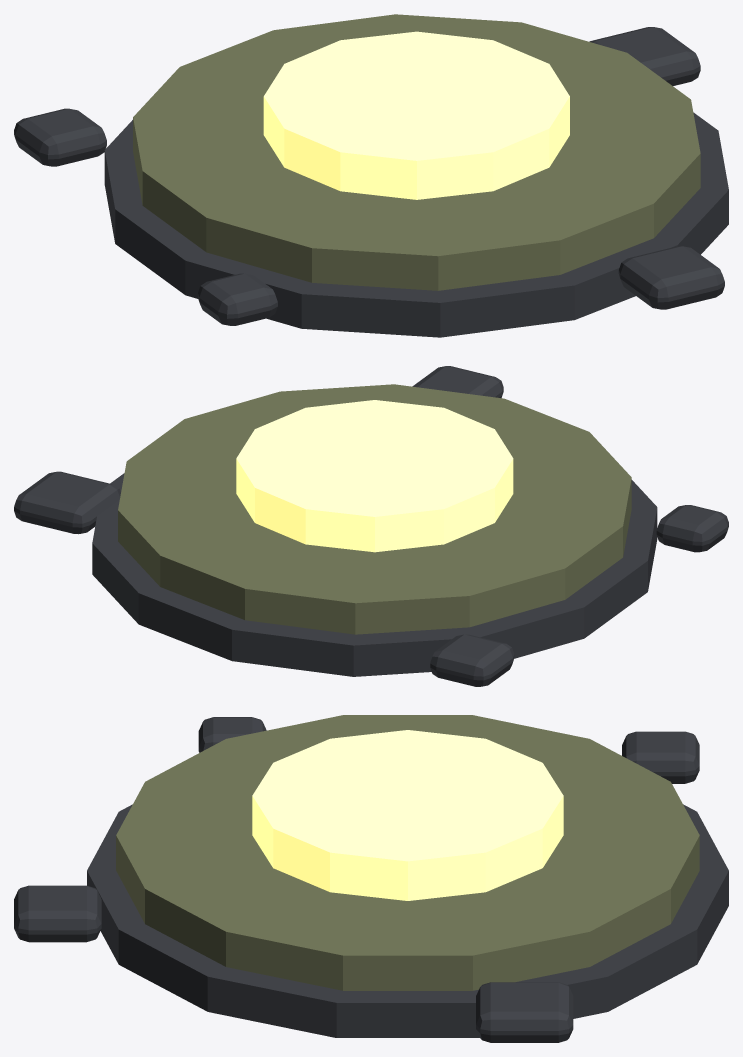
The model's file is com_mine.glb.
3 renders of one model, top to bottom at view 1: azimuth 30°, elevation 25°; view 2: azimuth 150°, elevation 25°; view 3: azimuth 270°, elevation 25°, orthographic. The views are drawn at different scales.
Parts seen in each view (by area): view 1: com_mine; view 2: com_mine; view 3: com_mine.
Part boxes in pixels (x1,y1,x2,y2): com_mine: (14, 14, 728, 337); com_mine: (14, 366, 728, 686); com_mine: (14, 715, 728, 1042).
Bounding box in the file's own units: 0.745 × 0.125 × 0.735.
